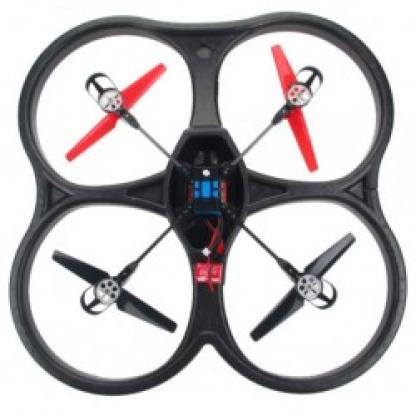drone: (2, 22, 404, 389)
